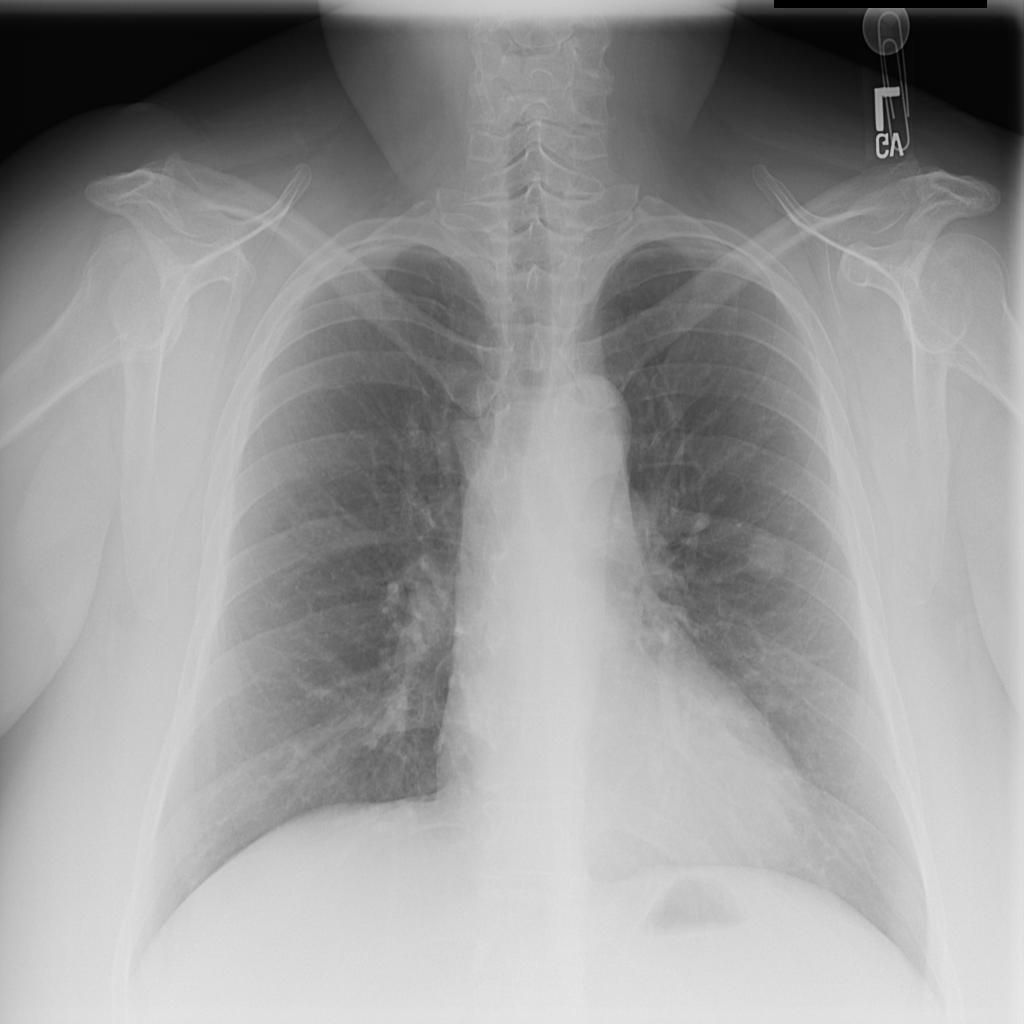nodule: (735, 512, 801, 596)
